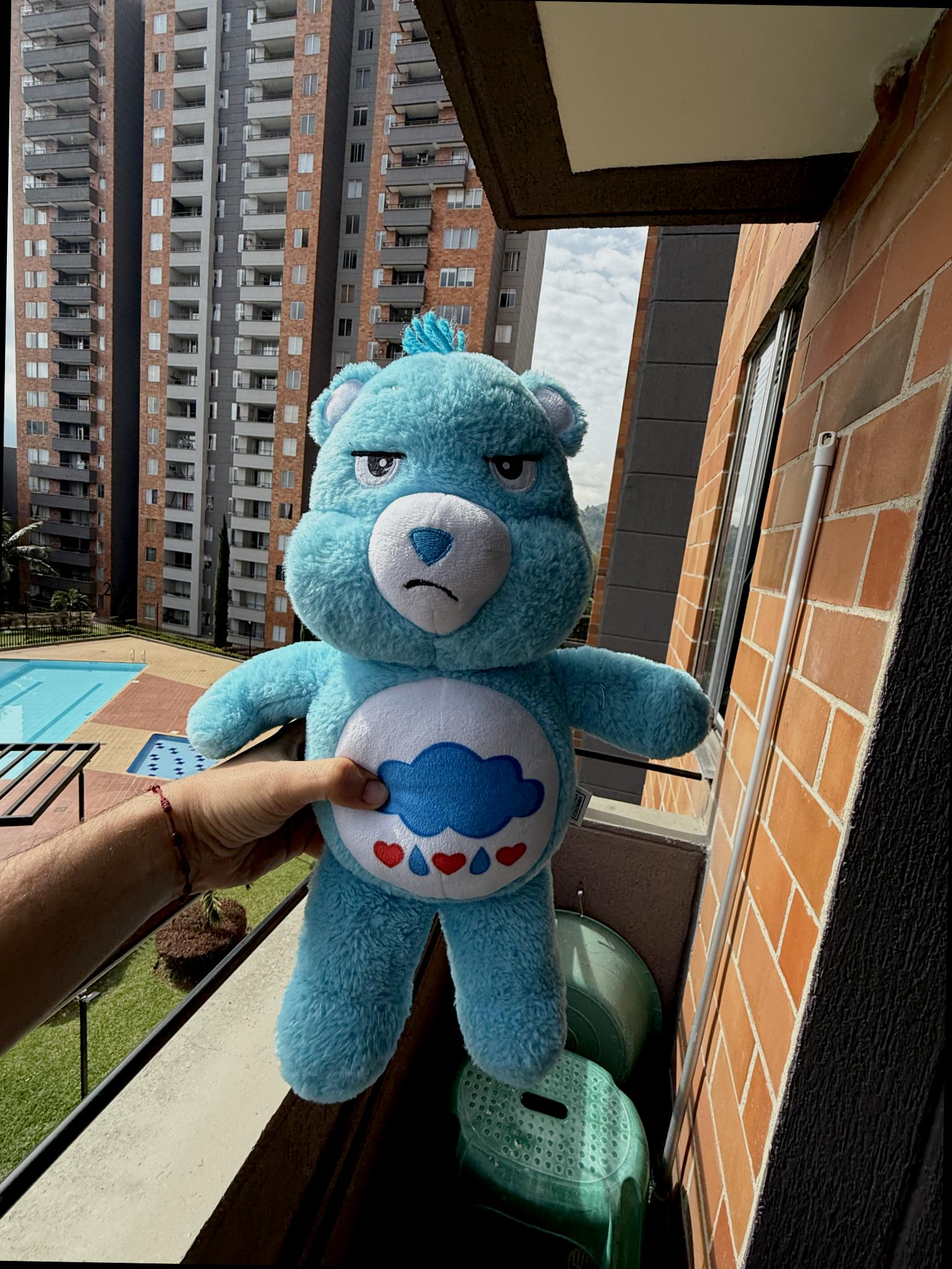peluche_Juan Jose: (258, 332, 610, 1104)
